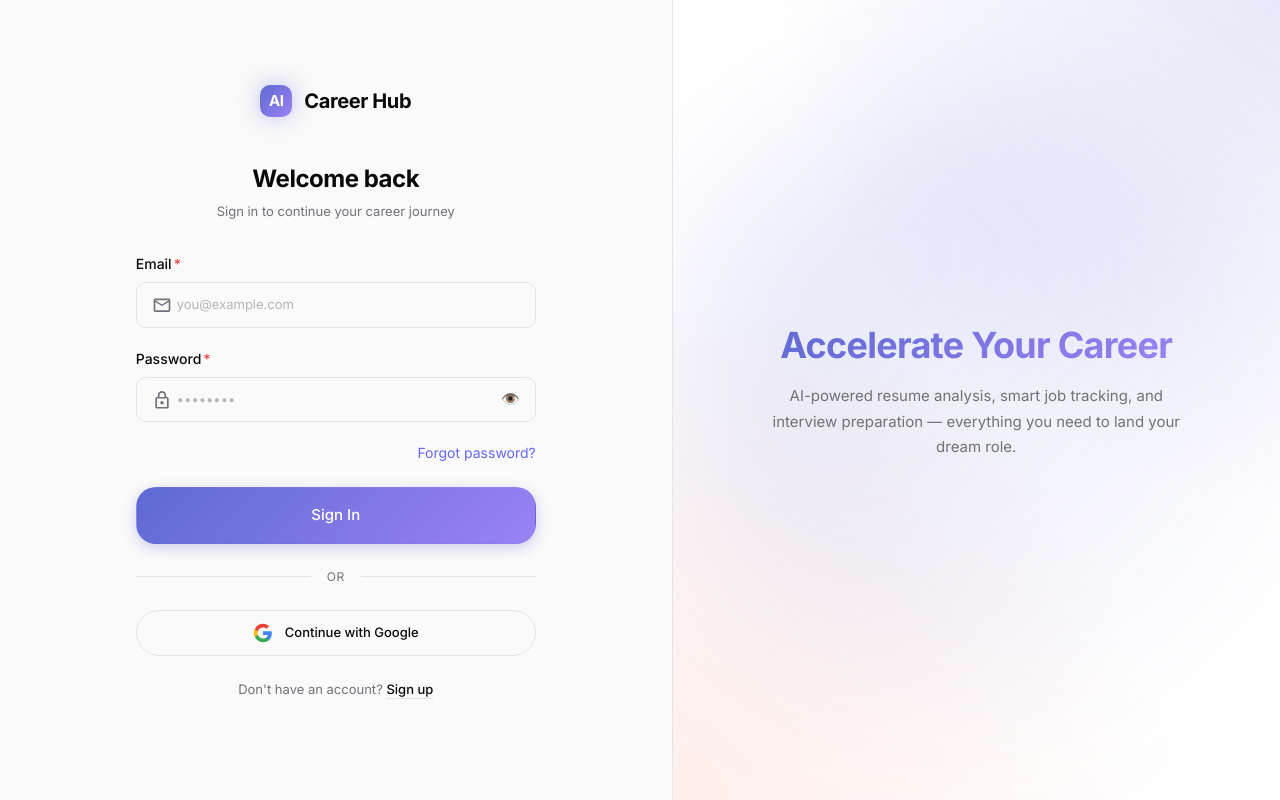
LoginPage › shows validation errors for empty submission
This screenshot has width=1280, height=800.
Click the button "Sign In" at x=336, y=515, box [136,487,536,544]
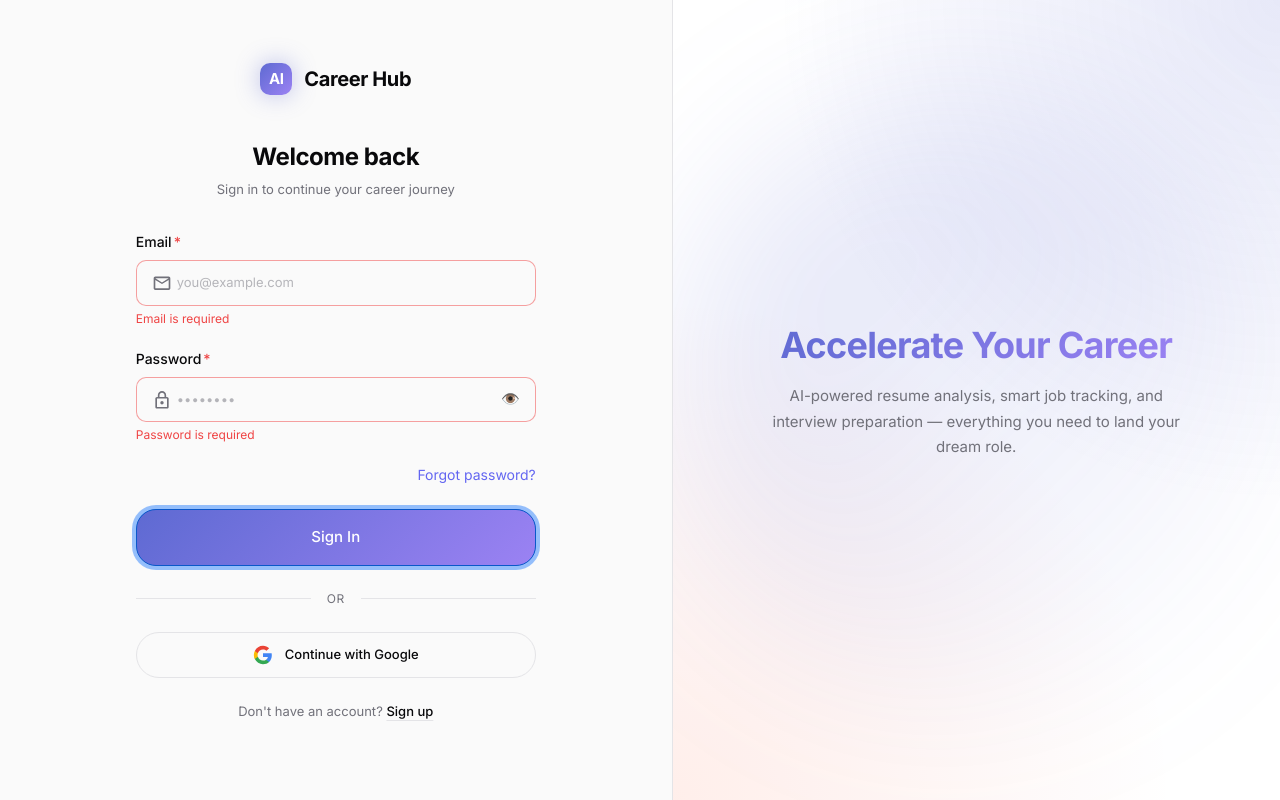
Expected: the text "Email is required" is shown, [136,311,229,326]
